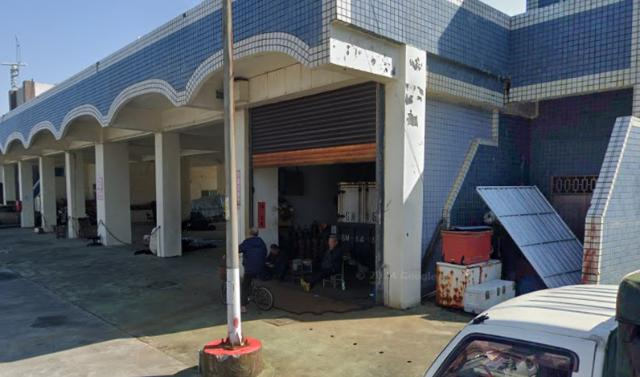pollute: (434, 229, 516, 315), (191, 196, 227, 223), (181, 235, 226, 252)
